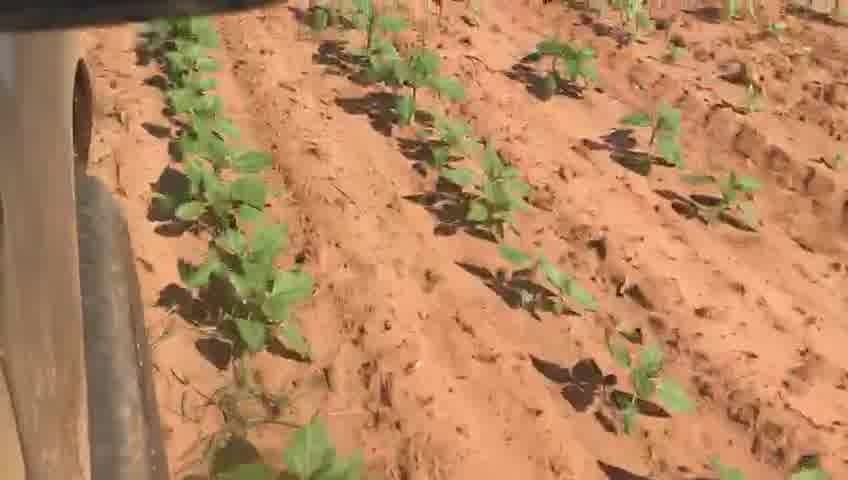sunflower: (180, 256, 325, 365), (150, 161, 288, 261), (203, 412, 369, 476), (437, 150, 534, 241), (490, 235, 601, 314), (370, 40, 471, 121), (593, 339, 691, 419), (158, 112, 276, 171), (156, 78, 237, 144), (151, 17, 225, 88), (686, 174, 772, 235), (332, 5, 425, 57), (525, 36, 598, 100), (620, 100, 686, 169), (403, 112, 480, 167)
